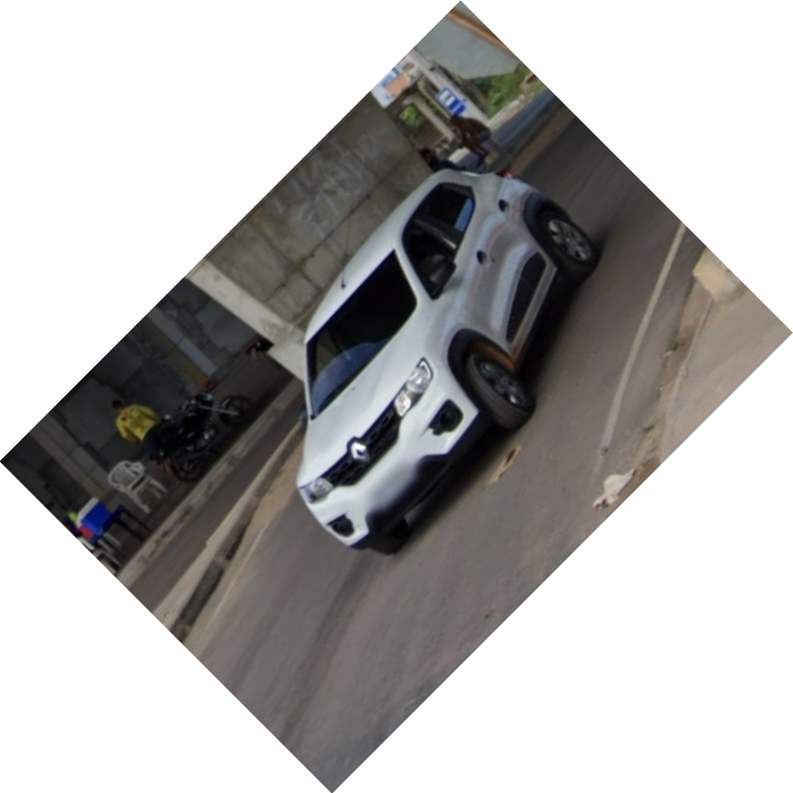car: (296, 166, 599, 556)
